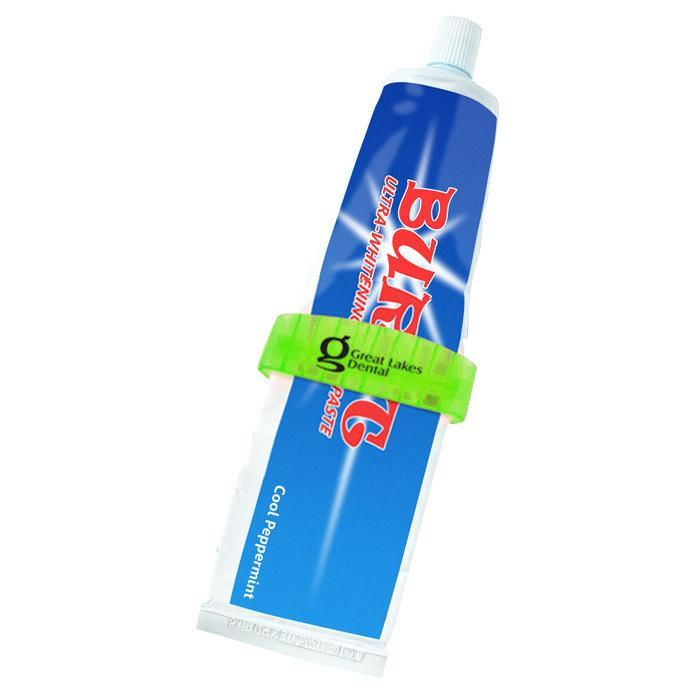toothpaste: (207, 3, 524, 669)
